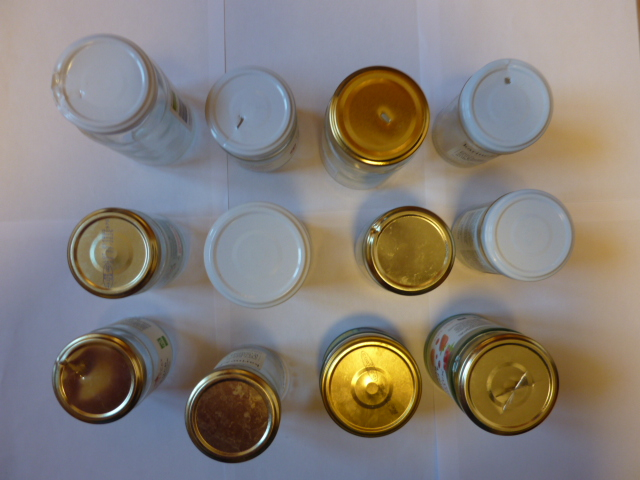damaged: (49, 34, 156, 134), (49, 336, 145, 425)
